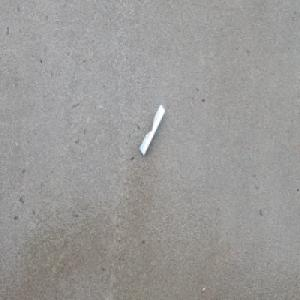ClampPart: (139, 103, 166, 156)
